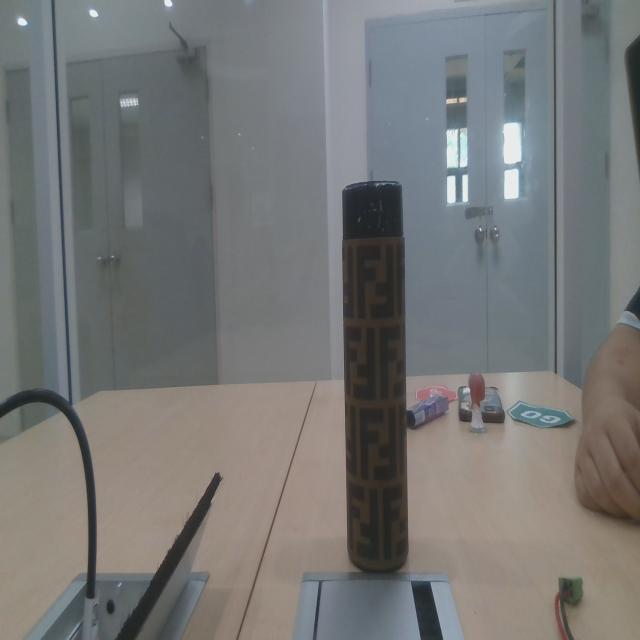Pole: (333, 169, 415, 590)
